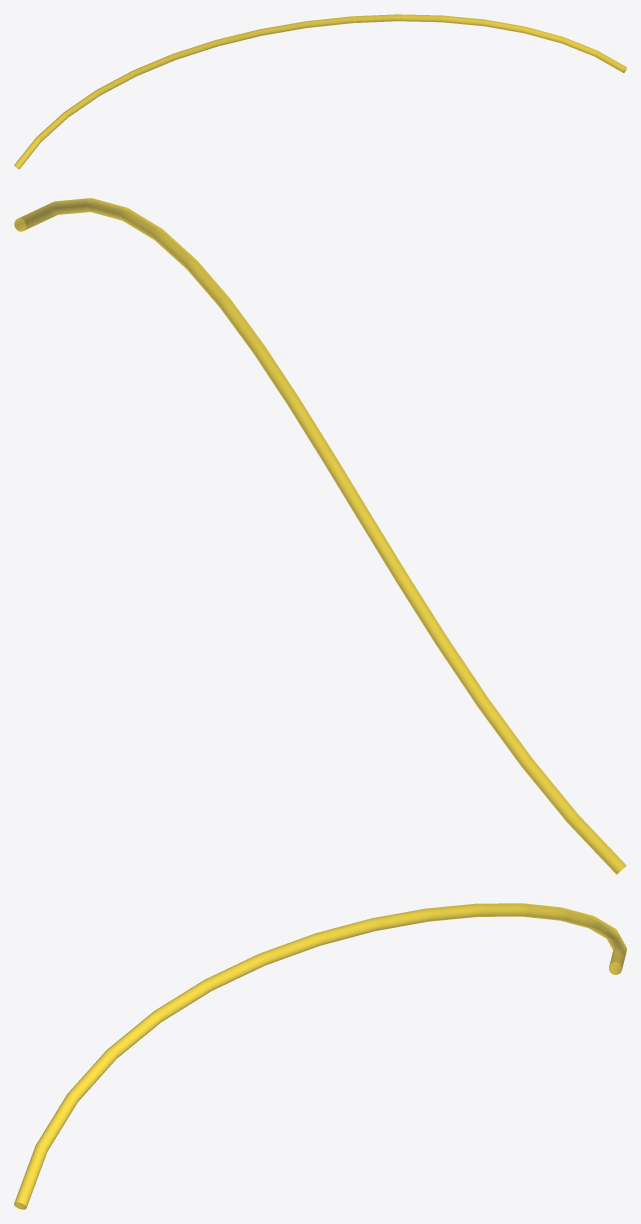
The model's file is Event_17758602_track_158.fbx.
3 views of the same model, one above another, from view 1: azimuth 30°, elevation 25°; view 2: azimuth 150°, elevation 25°; view 3: azimuth 270°, elevation 25° (orthographic). The views are drawn at different scales.
Visible parts, largest first — view 1: Model; view 2: Model; view 3: Model.
Part boxes in pixels (left/top/right/bottom): Model: left=14, top=14, right=626, bottom=169; Model: left=14, top=198, right=626, bottom=874; Model: left=14, top=903, right=626, bottom=1209.
Bounding box in the file's own units: 3.06 × 0.9765 × 1.83.
